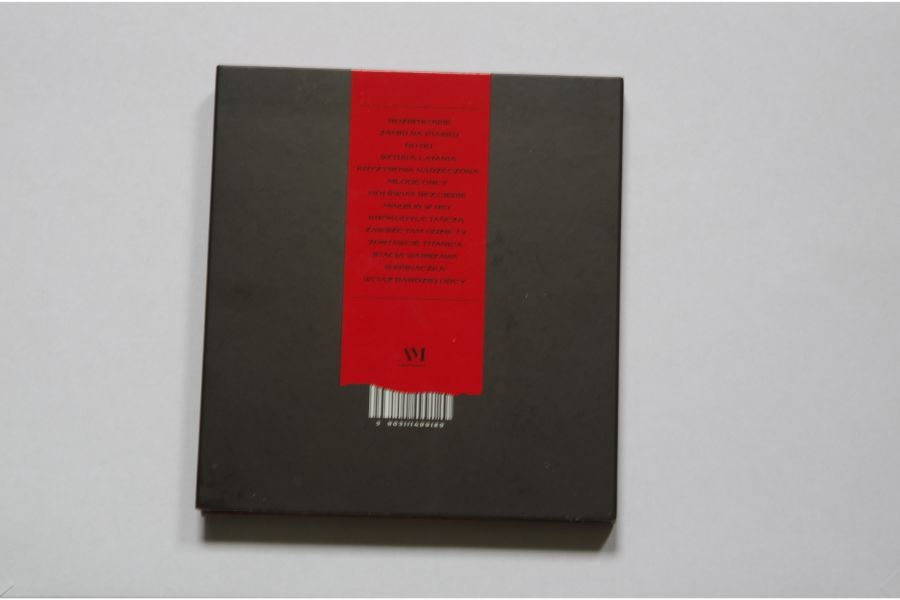album: (198, 62, 616, 524)
